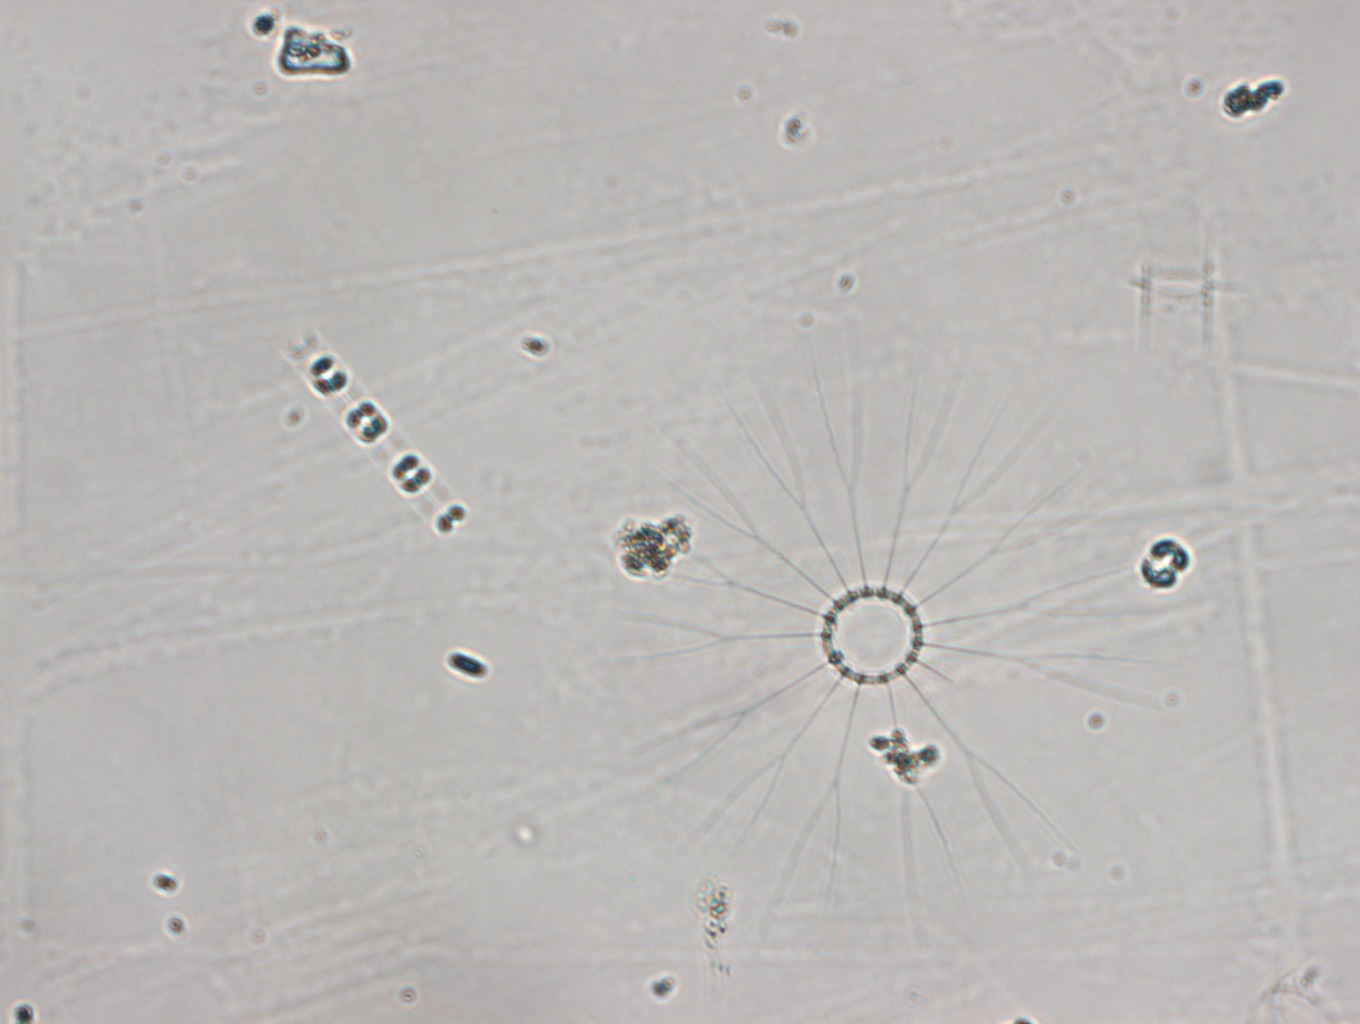bacteriastrum: (605, 346, 1169, 924)
skeletonema: (275, 328, 470, 539)
